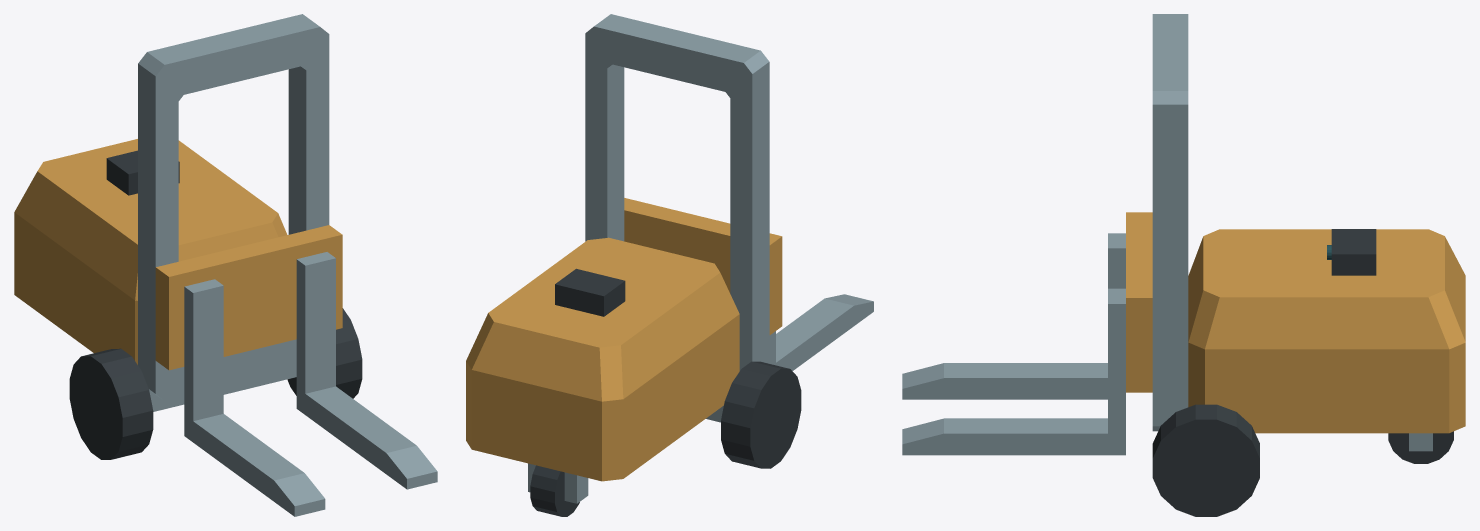
3 renders of one model, left to right at view 1: azimuth 30°, elevation 25°; view 2: azimuth 150°, elevation 25°; view 3: azimuth 270°, elevation 25°, orthographic. The views are drawn at different scales.
Visible parts, largest first — view 1: WholeTallOpenMast, WholeShoulderedCounterbody, FixedFrontForkCarriage, RightWholeUprightAndTaperedFork, LeftWholeUprightAndTaperedFork, LeftFrontGroundWheel, RightFrontGroundWheel, RoofSensorAppearancePod, WholeFrontAxleBar; view 2: WholeShoulderedCounterbody, WholeTallOpenMast, LeftFrontGroundWheel, FixedFrontForkCarriage, LeftWholeUprightAndTaperedFork, RoofSensorAppearancePod, SingleRearGroundWheel, WholeOpenRearWheelBracket; view 3: WholeShoulderedCounterbody, WholeTallOpenMast, RightWholeUprightAndTaperedFork, RightFrontGroundWheel, LeftWholeUprightAndTaperedFork, FixedFrontForkCarriage, RoofSensorAppearancePod, SingleRearGroundWheel.
Boxes of the visible parts, x1=… form: WholeTallOpenMast: x1=138, y1=14, x2=329, y2=400; WholeShoulderedCounterbody: x1=14, y1=139, x2=287, y2=364; FixedFrontForkCarriage: x1=155, y1=225, x2=342, y2=370; RightWholeUprightAndTaperedFork: x1=296, y1=252, x2=437, y2=489; LeftWholeUprightAndTaperedFork: x1=184, y1=279, x2=325, y2=516; LeftFrontGroundWheel: x1=69, y1=348, x2=153, y2=459; RightFrontGroundWheel: x1=287, y1=308, x2=362, y2=398; RoofSensorAppearancePod: x1=106, y1=150, x2=179, y2=195; WholeFrontAxleBar: x1=149, y1=369, x2=296, y2=411; WholeShoulderedCounterbody: x1=466, y1=237, x2=739, y2=481; WholeTallOpenMast: x1=585, y1=14, x2=769, y2=370; LeftFrontGroundWheel: x1=721, y1=361, x2=801, y2=468; FixedFrontForkCarriage: x1=624, y1=198, x2=782, y2=334; LeftWholeUprightAndTaperedFork: x1=769, y1=294, x2=873, y2=370; RoofSensorAppearancePod: x1=555, y1=268, x2=625, y2=316; SingleRearGroundWheel: x1=530, y1=465, x2=579, y2=516; WholeOpenRearWheelBracket: x1=528, y1=463, x2=588, y2=503; WholeShoulderedCounterbody: x1=1188, y1=229, x2=1465, y2=433; WholeTallOpenMast: x1=1152, y1=14, x2=1188, y2=431; RightWholeUprightAndTaperedFork: x1=902, y1=288, x2=1125, y2=455; RightFrontGroundWheel: x1=1152, y1=404, x2=1259, y2=516; LeftWholeUprightAndTaperedFork: x1=902, y1=233, x2=1125, y2=399; FixedFrontForkCarriage: x1=1126, y1=212, x2=1152, y2=392; RoofSensorAppearancePod: x1=1331, y1=229, x2=1376, y2=275; SingleRearGroundWheel: x1=1388, y1=431, x2=1453, y2=463.
Bounding box in the file's own units: 0.94 × 1.5 × 1.89.
